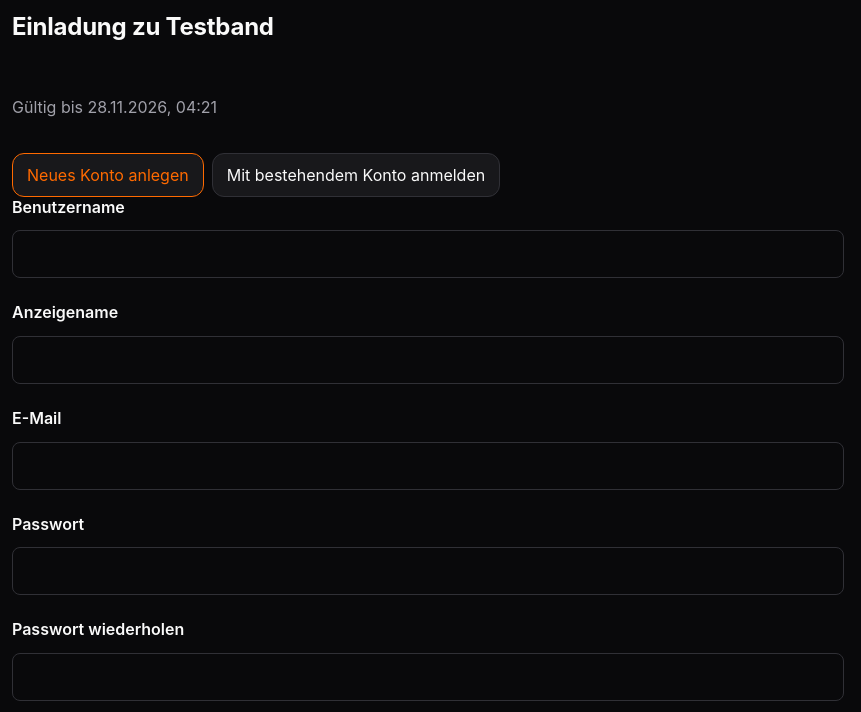
Test case: EinladungAnsicht Fehlerfälle › zeigt 400-Fehler beim Beitritt sichtbar an
Type "neu" into the field labelled "Benutzername".
click(428, 254); type("neu")  # box [12, 230, 844, 278]
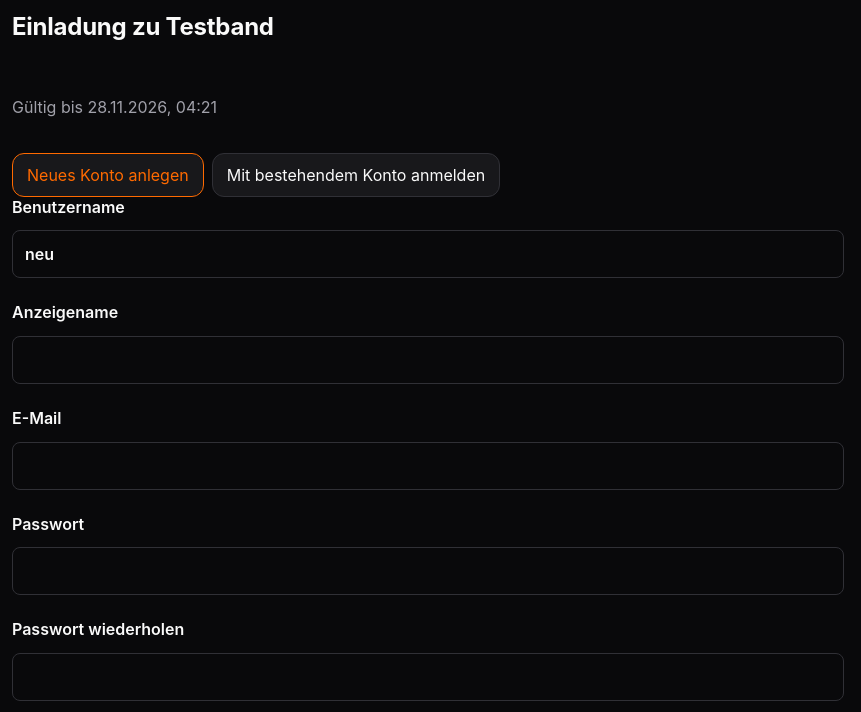
Type "neu@example.test" into the field labelled "E-Mail".
click(428, 466); type("neu@example.test")  # box [12, 442, 844, 490]
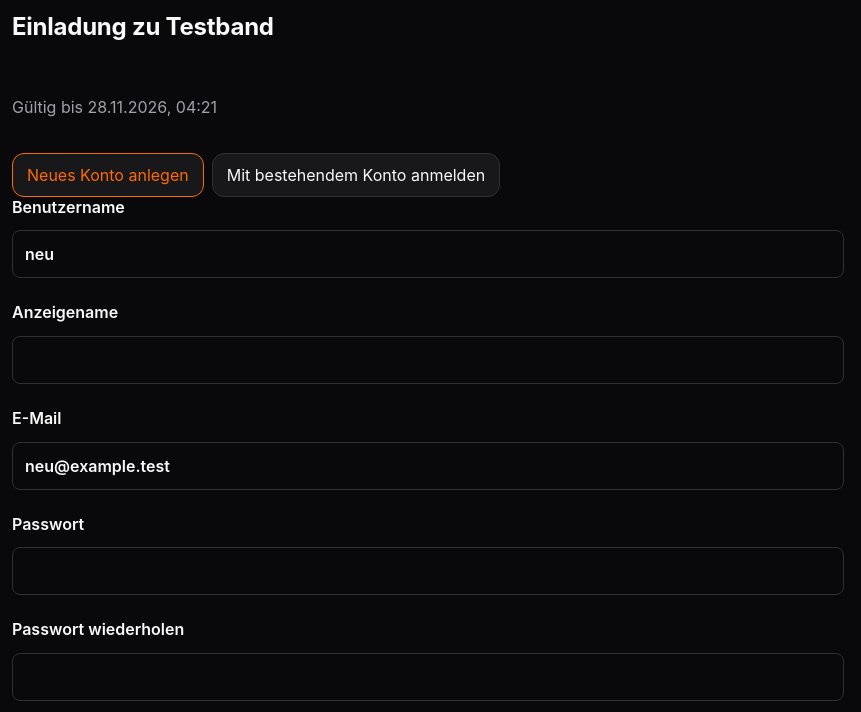
Type "zu-kurz" into the password field labelled "Passwort".
click(428, 571); type("zu-kurz")  # box [12, 547, 844, 595]
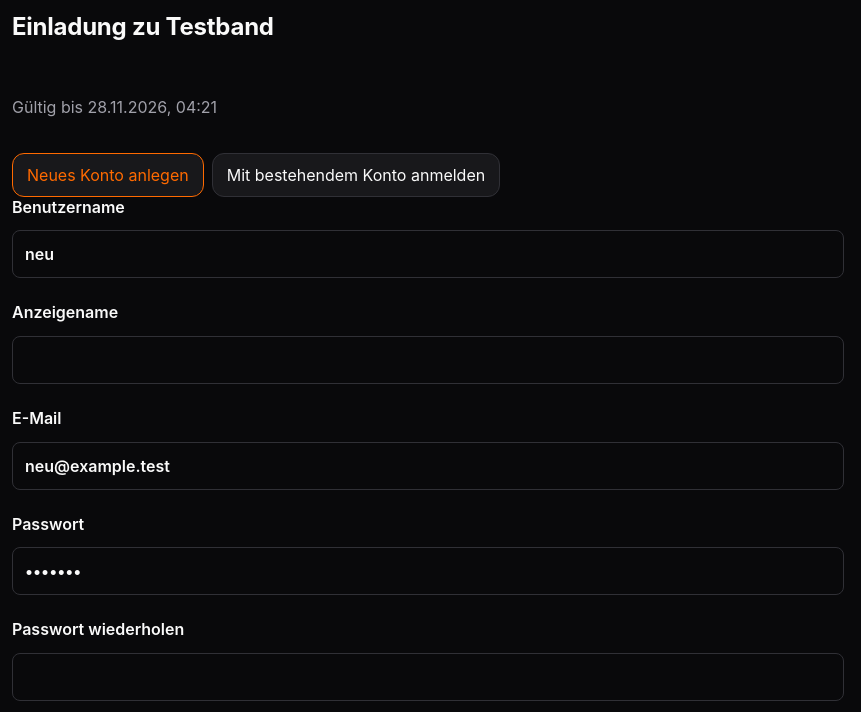
Type "zu-kurz" into the password field labelled "Passwort wiederholen".
click(428, 677); type("zu-kurz")  # box [12, 653, 844, 701]
(page scrolled)
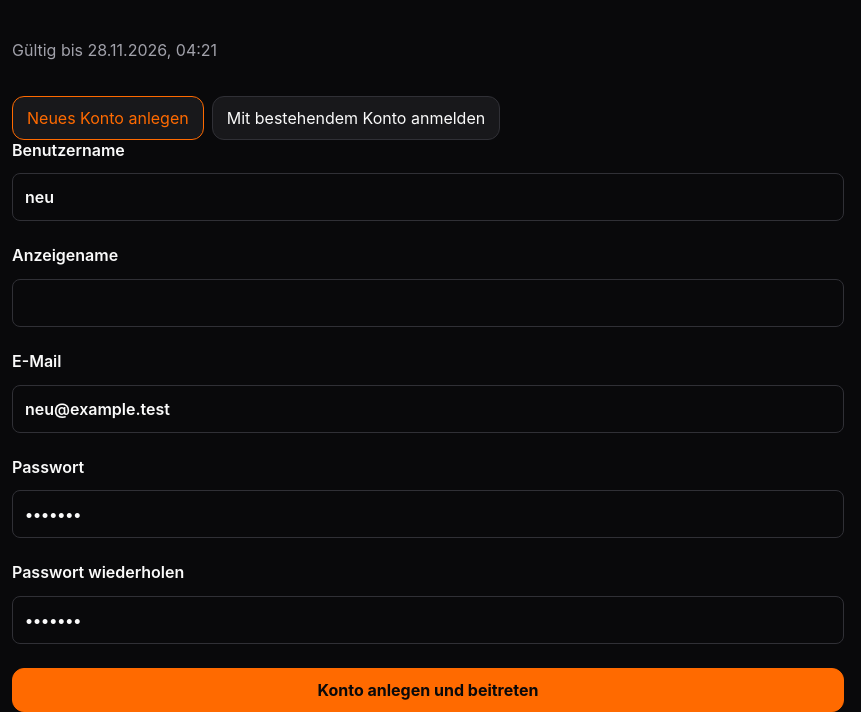
Click the button "Konto anlegen und beitreten".
click(428, 690)  # box [12, 668, 844, 711]
(page scrolled)
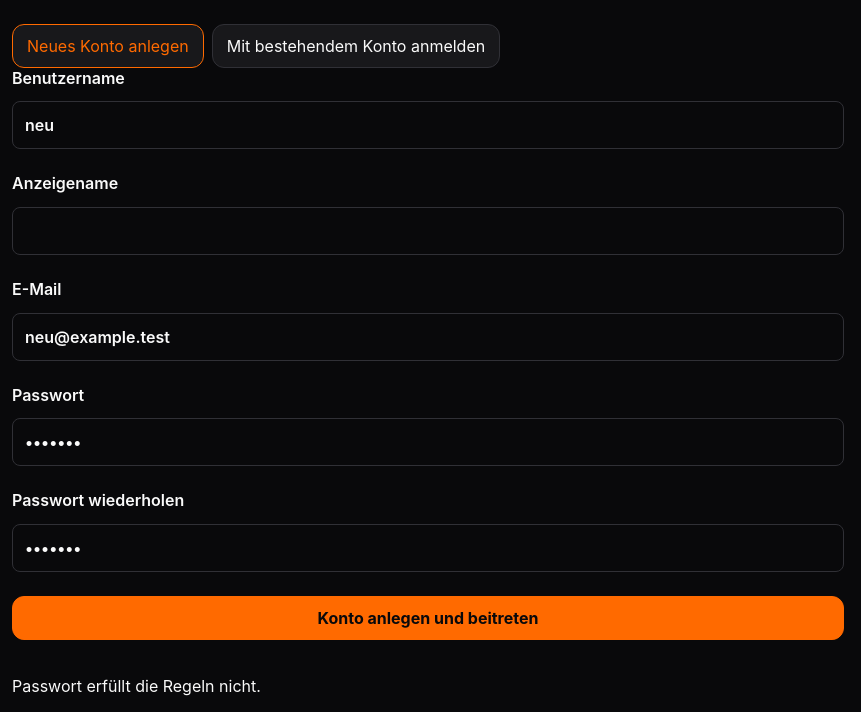
expect the message reads "Passwort erfüllt die Regeln nicht.": met, box [12, 676, 261, 696]
